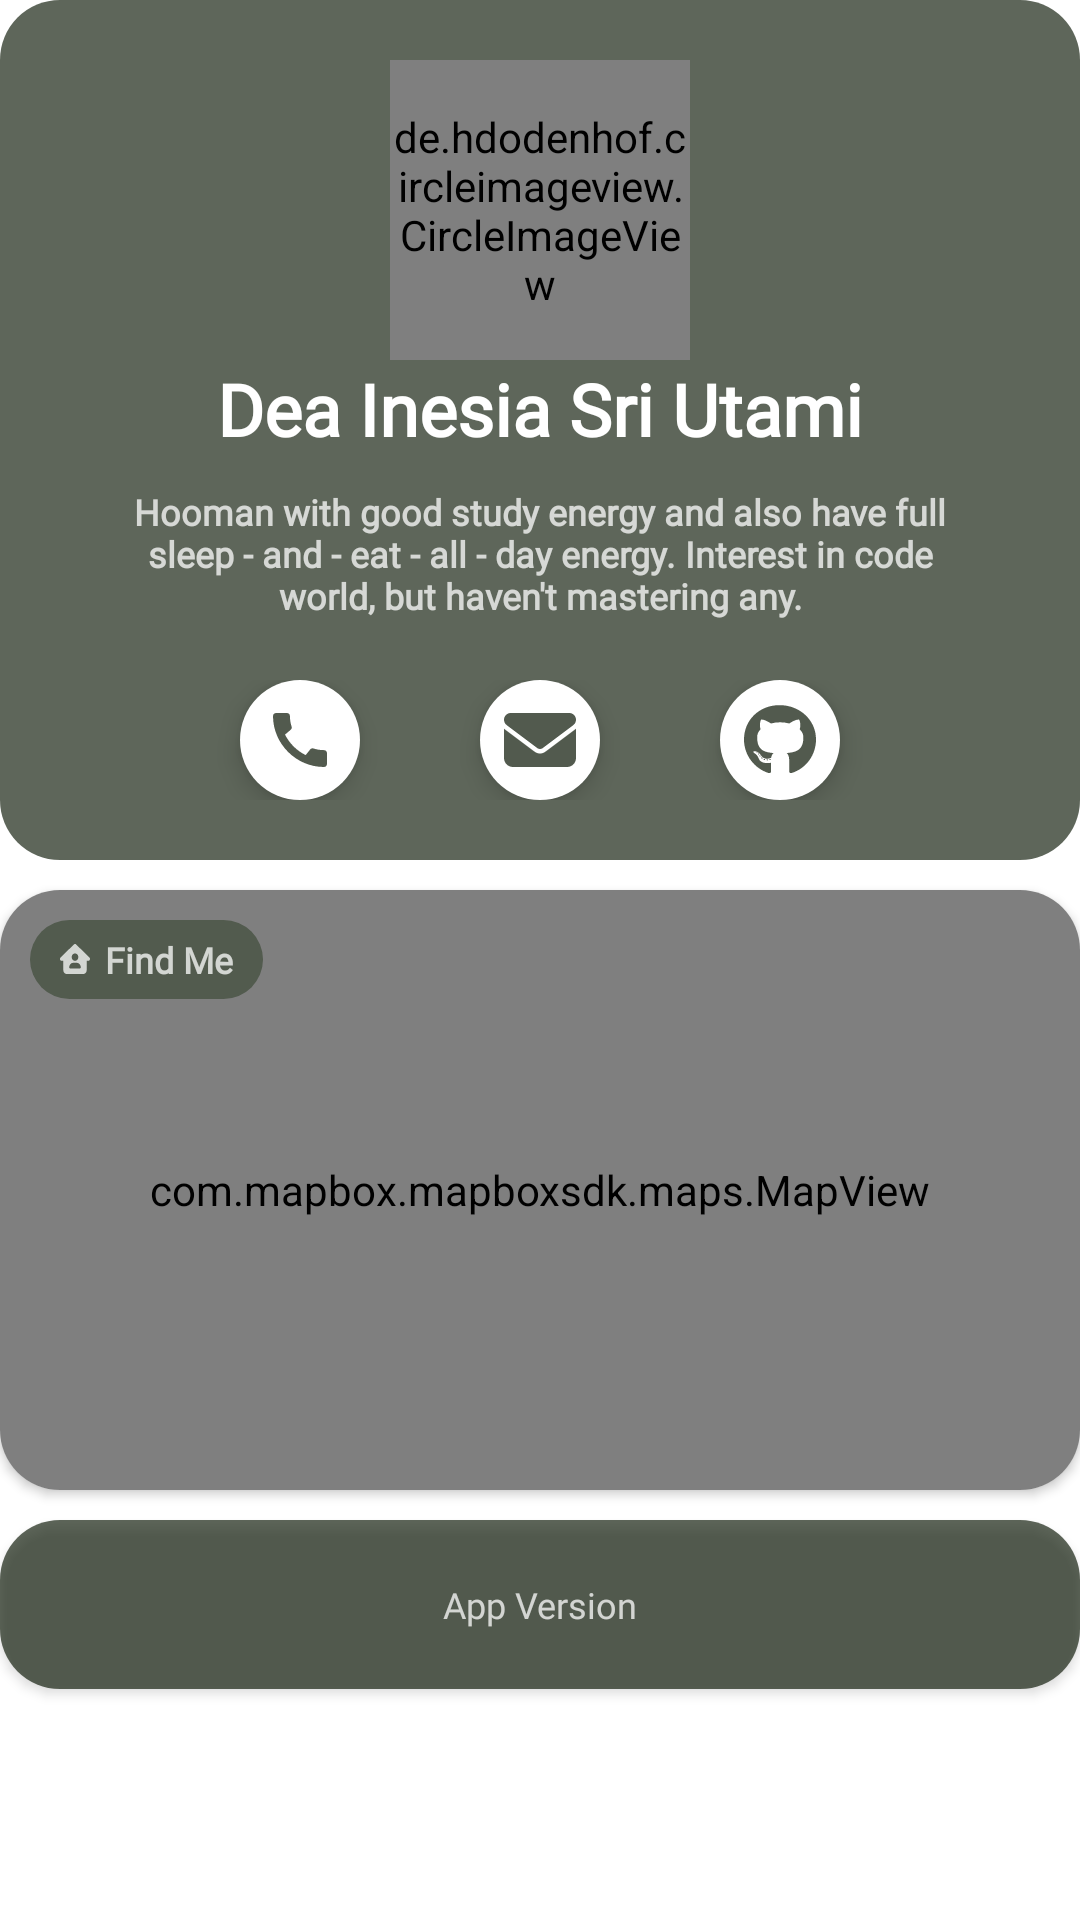

Where icons sit on this 1080 × 1920 app screen, as (x1, y1, x2, y2):
call: (240, 680, 360, 800)
mail: (480, 680, 600, 800)
